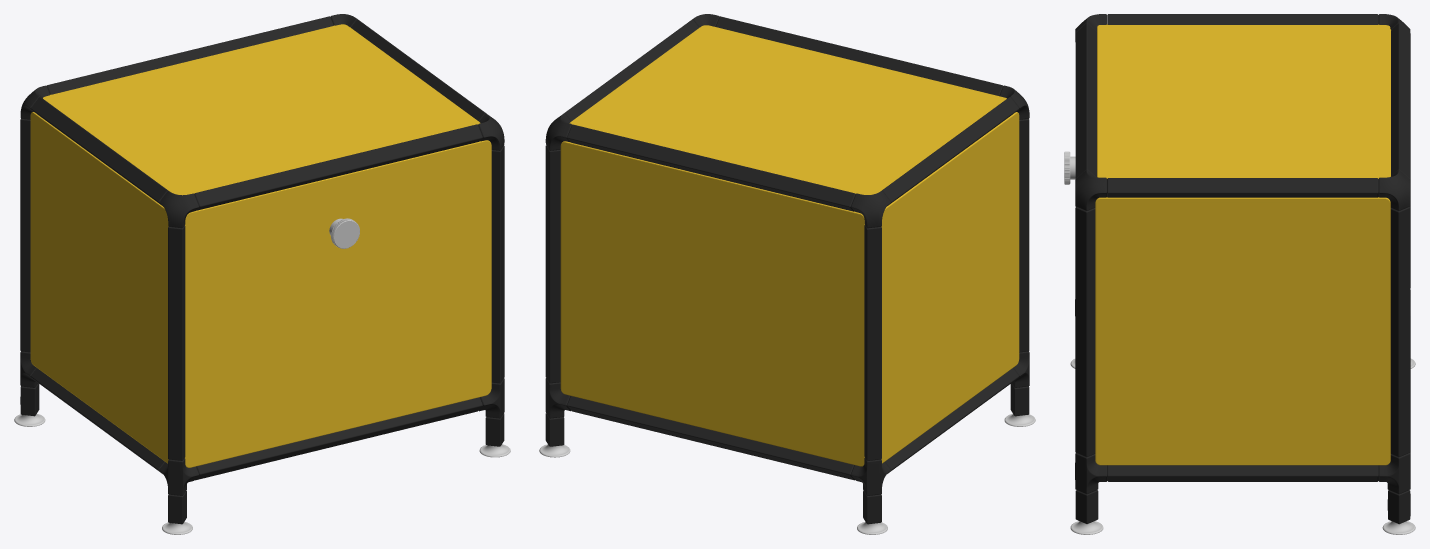
The picture shows the model from 3 angles, left to right: view 1: azimuth 30°, elevation 25°; view 2: azimuth 150°, elevation 25°; view 3: azimuth 270°, elevation 25°; orthographic projection. The views are drawn at different scales.
Visible parts, largest first — view 1: 420x329x330; view 2: 420x329x330; view 3: 420x329x330.
Boxes of the visible parts, x1,y1,x2,y2 form: 420x329x330: (14, 14, 510, 534); 420x329x330: (539, 14, 1035, 534); 420x329x330: (1064, 14, 1415, 534).
Bounding box in the file's own units: 0.5099 × 0.4683 × 0.4257.
